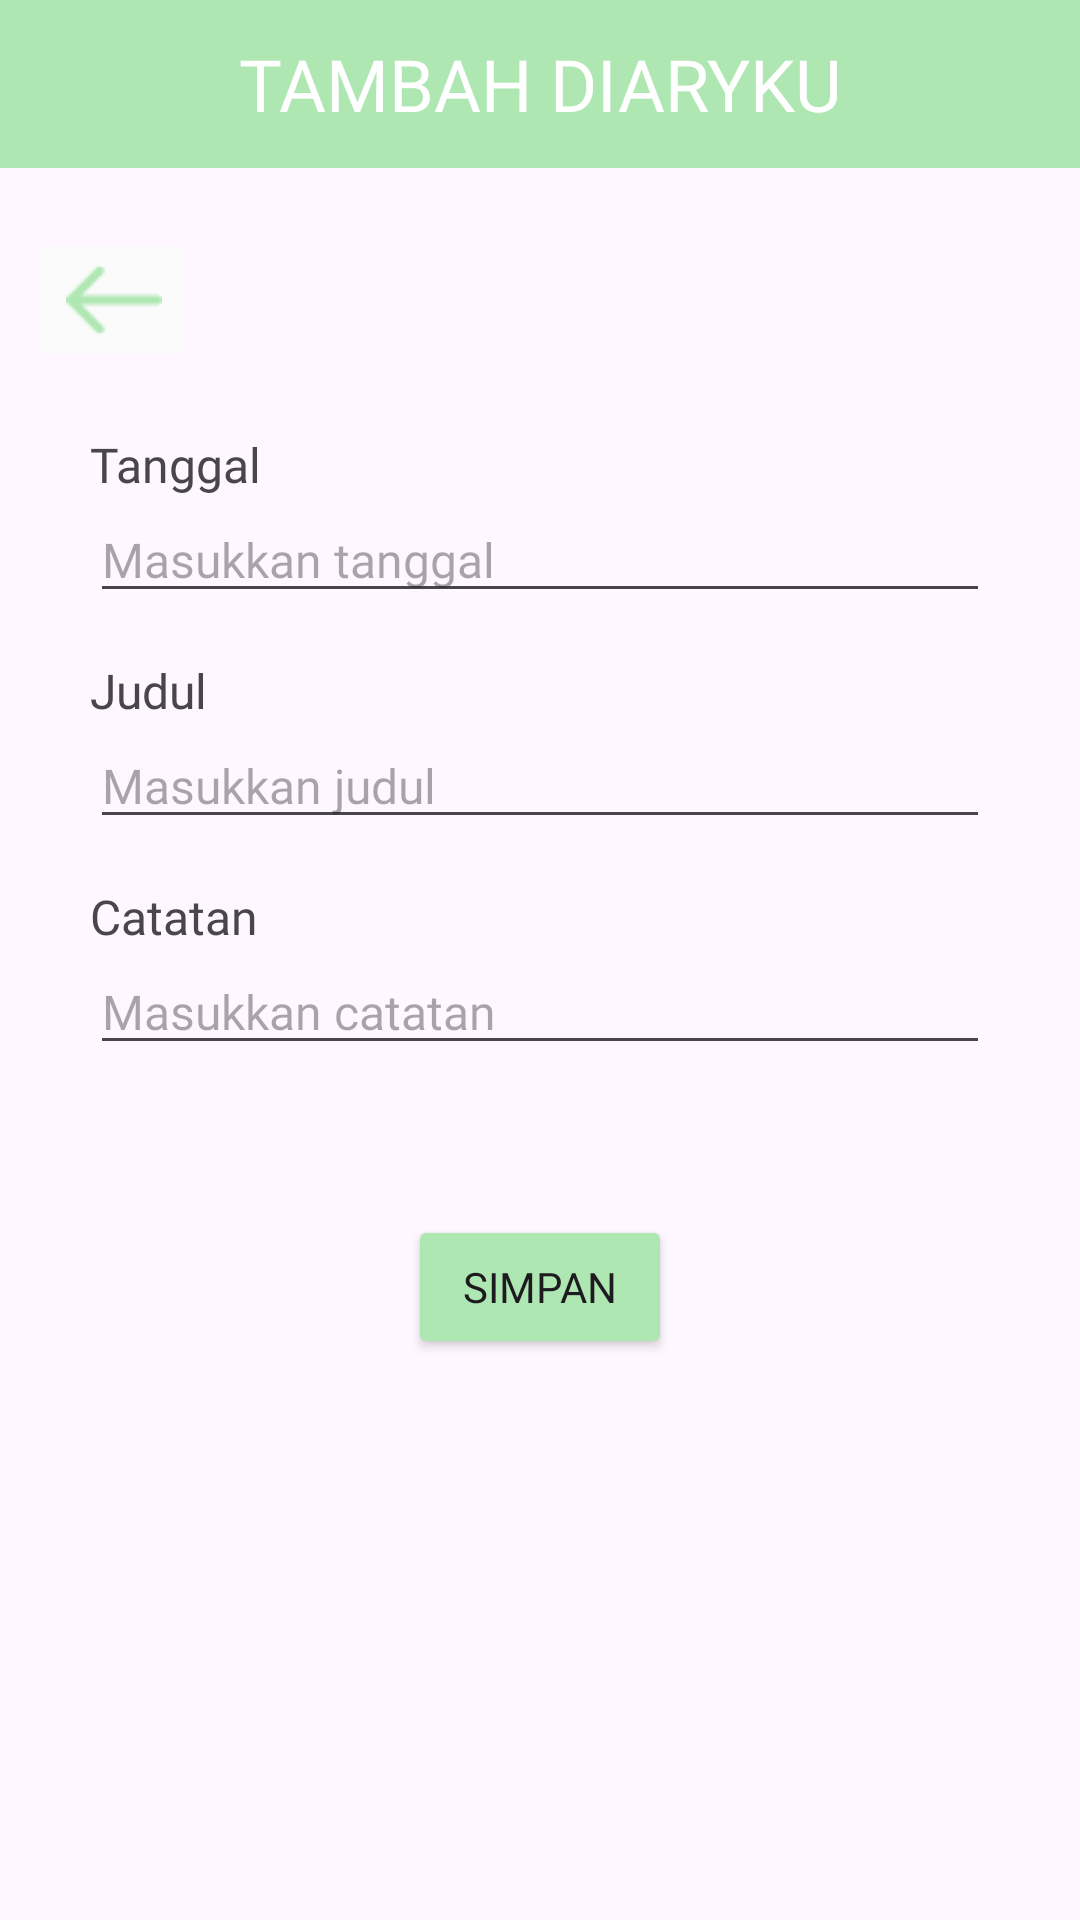

Named icons in this screenshot (1080×1920) and their bounding boxes, (x1, y1, x2, y2):
Back: (66, 266, 162, 334)
